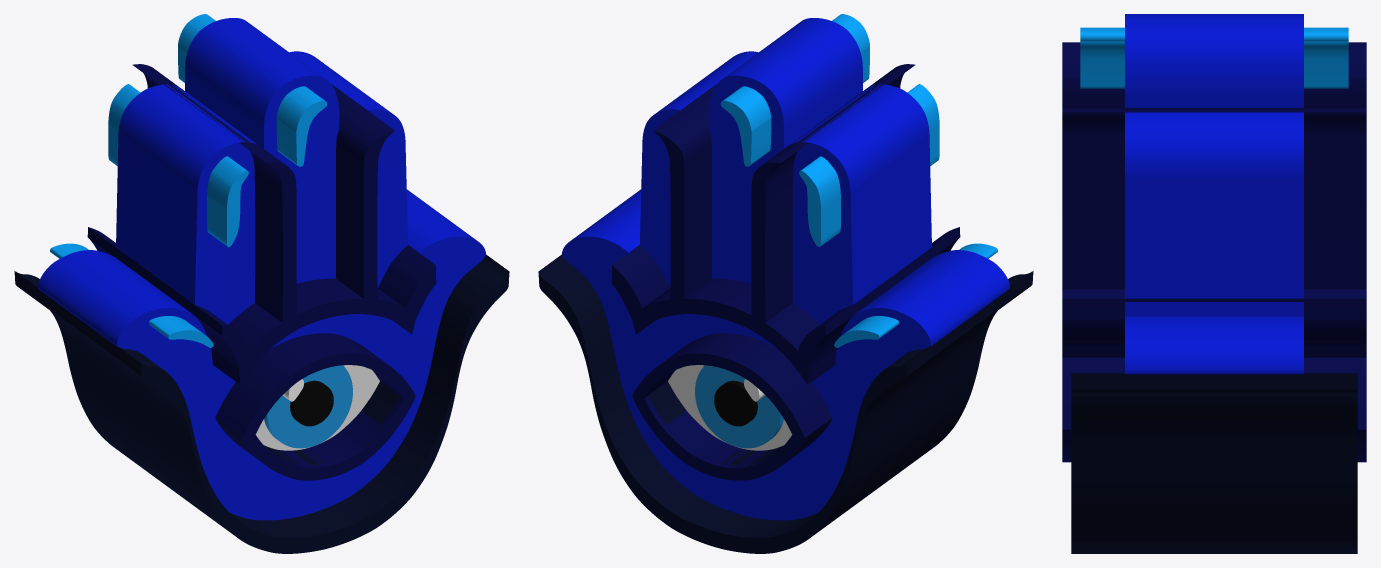
File: U+1FAAC.obj
The picture shows the model from 3 angles, left to right: view 1: azimuth 30°, elevation 25°; view 2: azimuth 150°, elevation 25°; view 3: azimuth 270°, elevation 25°; orthographic projection. The views are drawn at different scales.
Parts seen in each view (by area): view 1: U+1FAAC_layer00_obj00, U+1FAAC_layer06_obj00, U+1FAAC_layer07_obj02, U+1FAAC_layer07_obj04, U+1FAAC_layer05_obj00, U+1FAAC_layer02_obj00, U+1FAAC_layer05_obj01, U+1FAAC_layer01_obj00, U+1FAAC_layer03_obj00, U+1FAAC_layer07_obj01, U+1FAAC_layer06_obj01, U+1FAAC_layer05_obj02; view 2: U+1FAAC_layer00_obj00, U+1FAAC_layer06_obj00, U+1FAAC_layer07_obj02, U+1FAAC_layer07_obj04, U+1FAAC_layer05_obj00, U+1FAAC_layer02_obj00, U+1FAAC_layer05_obj01, U+1FAAC_layer01_obj00, U+1FAAC_layer03_obj00, U+1FAAC_layer07_obj01, U+1FAAC_layer06_obj01, U+1FAAC_layer05_obj02; view 3: U+1FAAC_layer00_obj00, U+1FAAC_layer06_obj00, U+1FAAC_layer07_obj02, U+1FAAC_layer05_obj01, U+1FAAC_layer07_obj04.
Boxes of the visible parts, bbox=[...] form: U+1FAAC_layer00_obj00: bbox=[38, 18, 485, 520]; U+1FAAC_layer06_obj00: bbox=[14, 254, 509, 553]; U+1FAAC_layer07_obj02: bbox=[88, 64, 436, 384]; U+1FAAC_layer07_obj04: bbox=[215, 333, 415, 480]; U+1FAAC_layer05_obj00: bbox=[108, 84, 248, 247]; U+1FAAC_layer02_obj00: bbox=[264, 365, 352, 448]; U+1FAAC_layer05_obj01: bbox=[178, 14, 327, 166]; U+1FAAC_layer01_obj00: bbox=[255, 365, 379, 450]; U+1FAAC_layer03_obj00: bbox=[290, 380, 333, 426]; U+1FAAC_layer07_obj01: bbox=[87, 227, 222, 335]; U+1FAAC_layer06_obj01: bbox=[216, 381, 399, 464]; U+1FAAC_layer05_obj02: bbox=[50, 243, 213, 347]; U+1FAAC_layer00_obj00: bbox=[562, 18, 1009, 520]; U+1FAAC_layer06_obj00: bbox=[538, 254, 1033, 553]; U+1FAAC_layer07_obj02: bbox=[611, 64, 959, 384]; U+1FAAC_layer07_obj04: bbox=[632, 333, 832, 480]; U+1FAAC_layer05_obj00: bbox=[799, 84, 939, 247]; U+1FAAC_layer02_obj00: bbox=[695, 365, 783, 448]; U+1FAAC_layer05_obj01: bbox=[720, 14, 869, 166]; U+1FAAC_layer01_obj00: bbox=[668, 365, 792, 450]; U+1FAAC_layer03_obj00: bbox=[714, 380, 757, 426]; U+1FAAC_layer07_obj01: bbox=[825, 227, 960, 335]; U+1FAAC_layer06_obj01: bbox=[648, 381, 831, 464]; U+1FAAC_layer05_obj02: bbox=[834, 243, 997, 347]; U+1FAAC_layer00_obj00: bbox=[1125, 14, 1303, 374]; U+1FAAC_layer06_obj00: bbox=[1071, 373, 1357, 553]; U+1FAAC_layer07_obj02: bbox=[1062, 42, 1366, 357]; U+1FAAC_layer05_obj01: bbox=[1080, 27, 1348, 88]; U+1FAAC_layer07_obj04: bbox=[1062, 357, 1366, 462].
Bounding box in the file's own units: 0.2697 × 0.3177 × 0.17.
